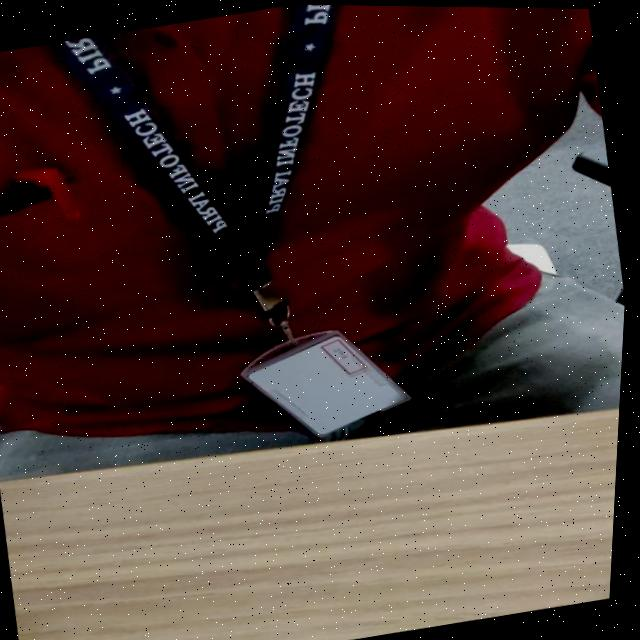id_card: (23, 0, 471, 481)
